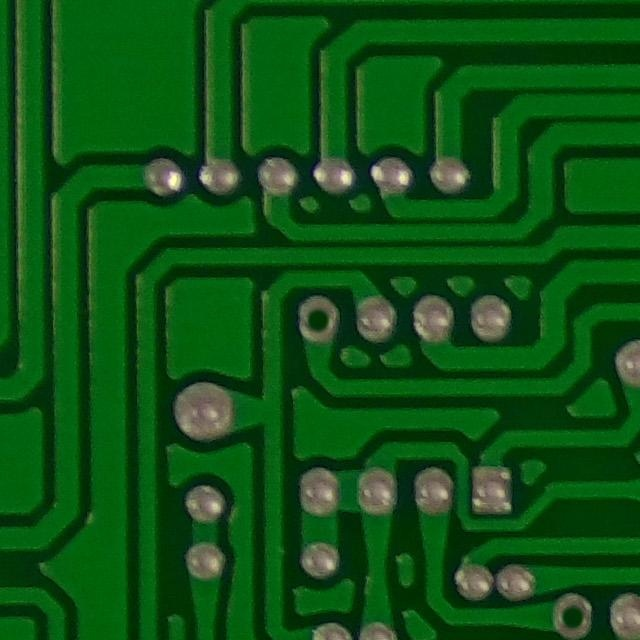missing_hole: (543, 585, 603, 639), (291, 288, 345, 348)
